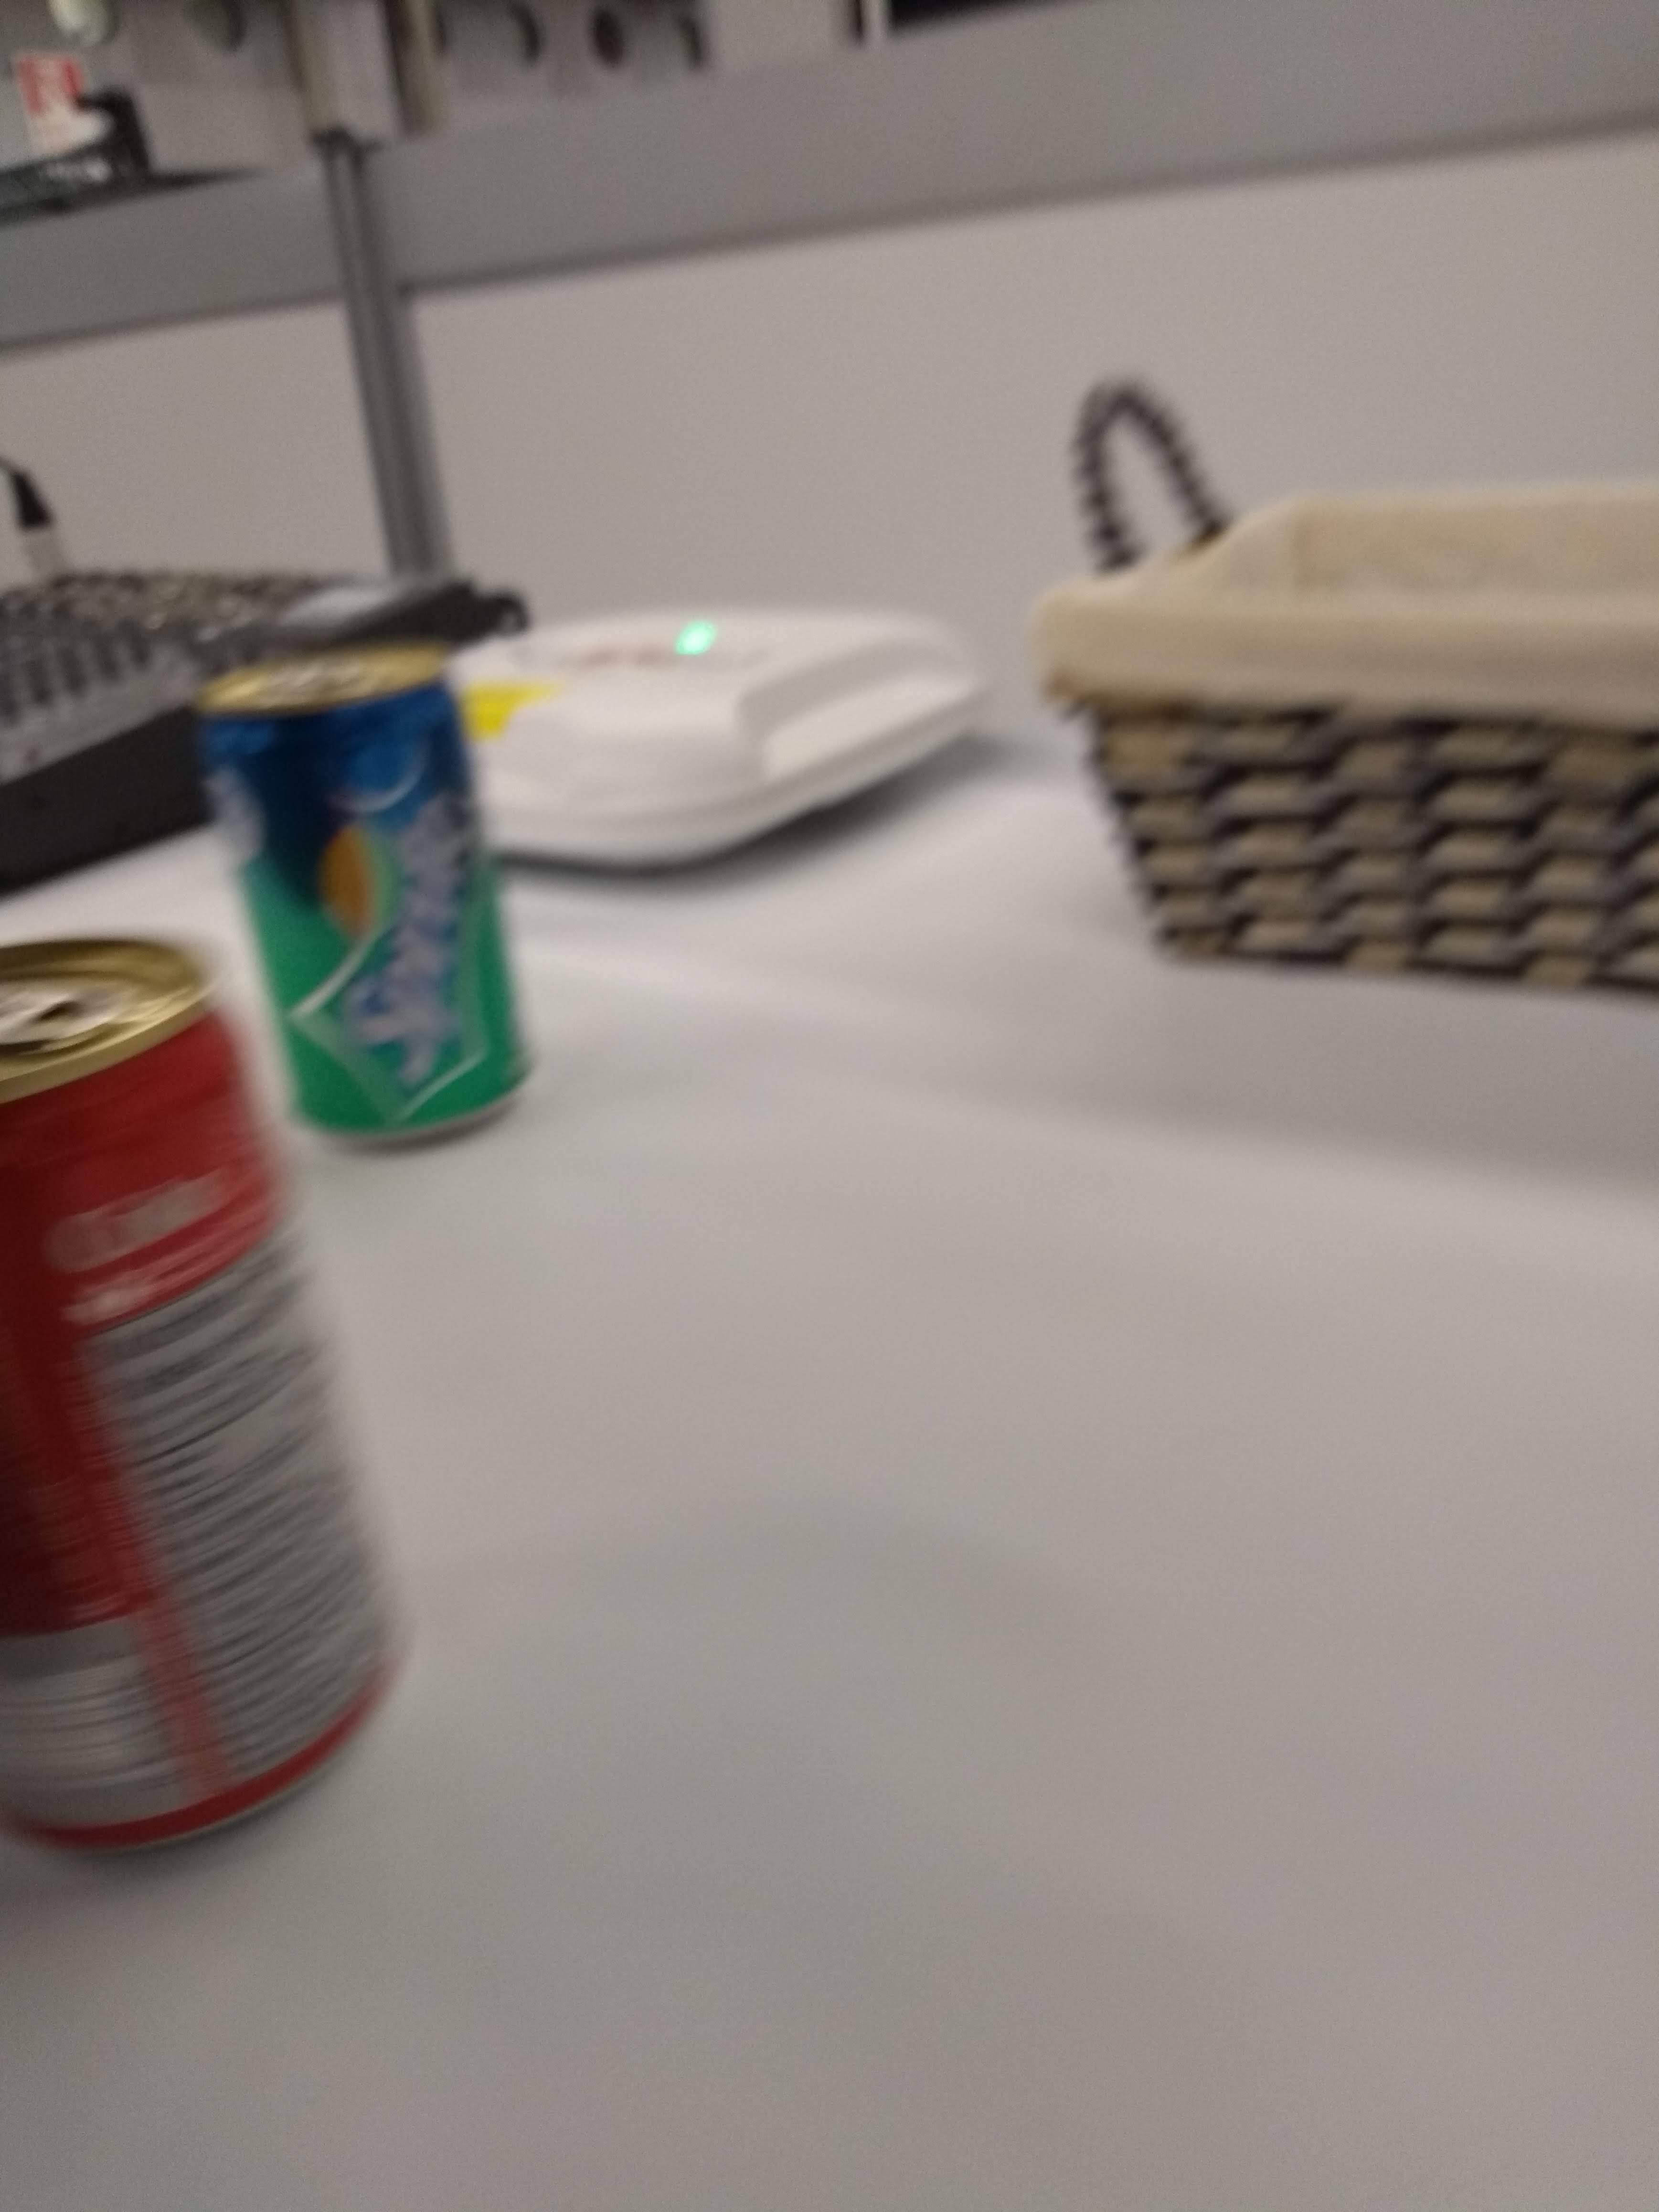sprite: (186, 620, 544, 1165)
